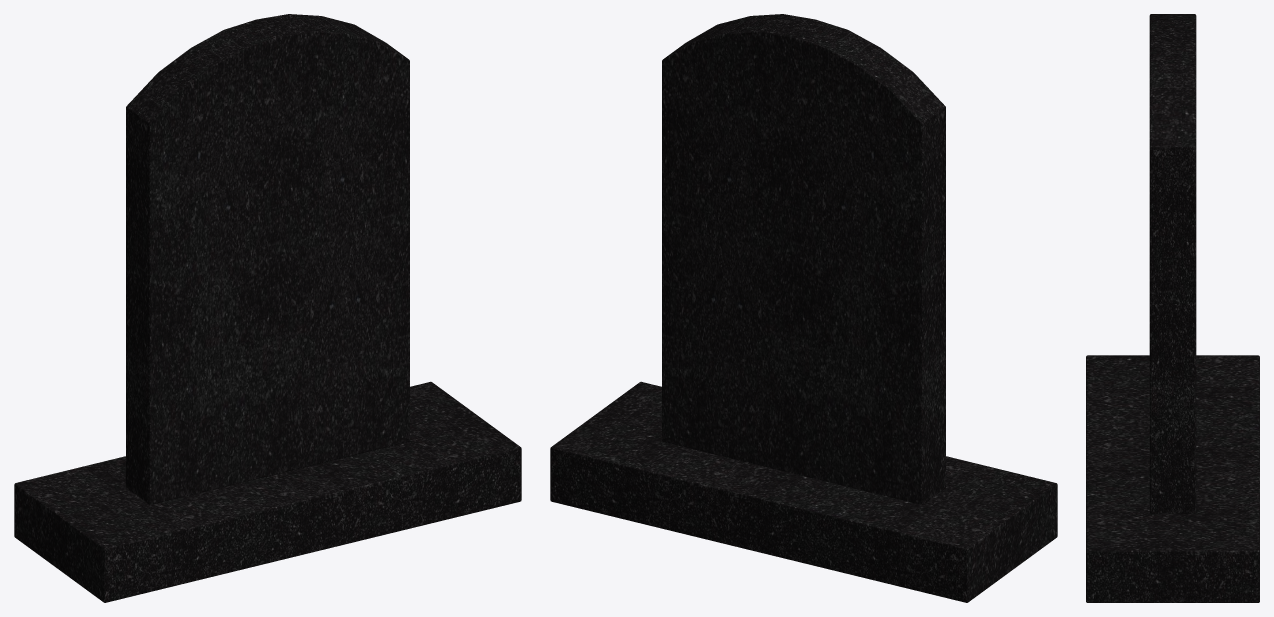
File: Number 3 (Big).gltf
3 renders of one model, left to right at view 1: azimuth 30°, elevation 25°; view 2: azimuth 150°, elevation 25°; view 3: azimuth 270°, elevation 25°, orthographic. The views are drawn at different scales.
Visible parts, largest first — view 1: Cube.015, Cube.013; view 2: Cube.015, Cube.013; view 3: Cube.013, Cube.015.
Part boxes in pixels (x1,y1,x2,y2): Cube.015: (126, 14, 409, 504); Cube.013: (14, 381, 521, 602); Cube.015: (662, 14, 945, 504); Cube.013: (550, 381, 1057, 602); Cube.013: (1086, 355, 1259, 602); Cube.015: (1149, 14, 1196, 513).
Size of the model in its own units: 0.8 by 0.9 by 0.3.
Materials: 1 (1 with a texture image).
